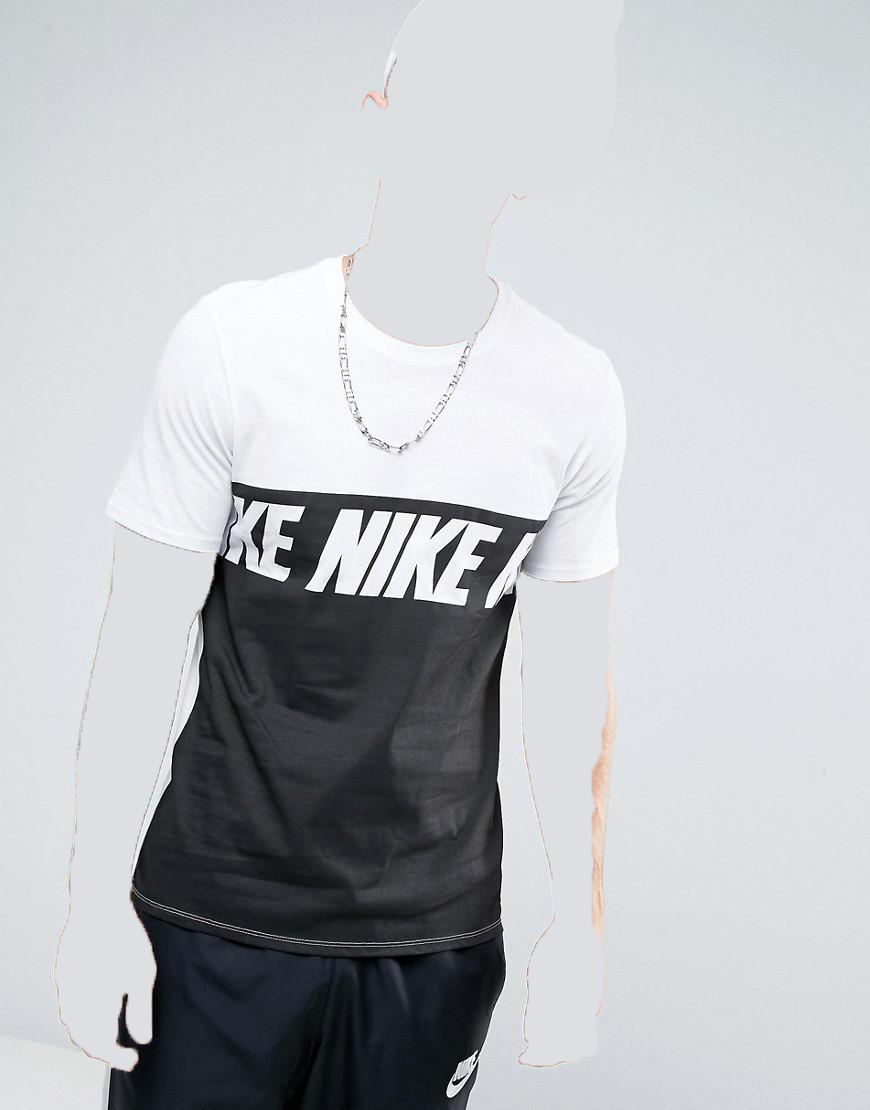teeshirt: (100, 251, 651, 969)
